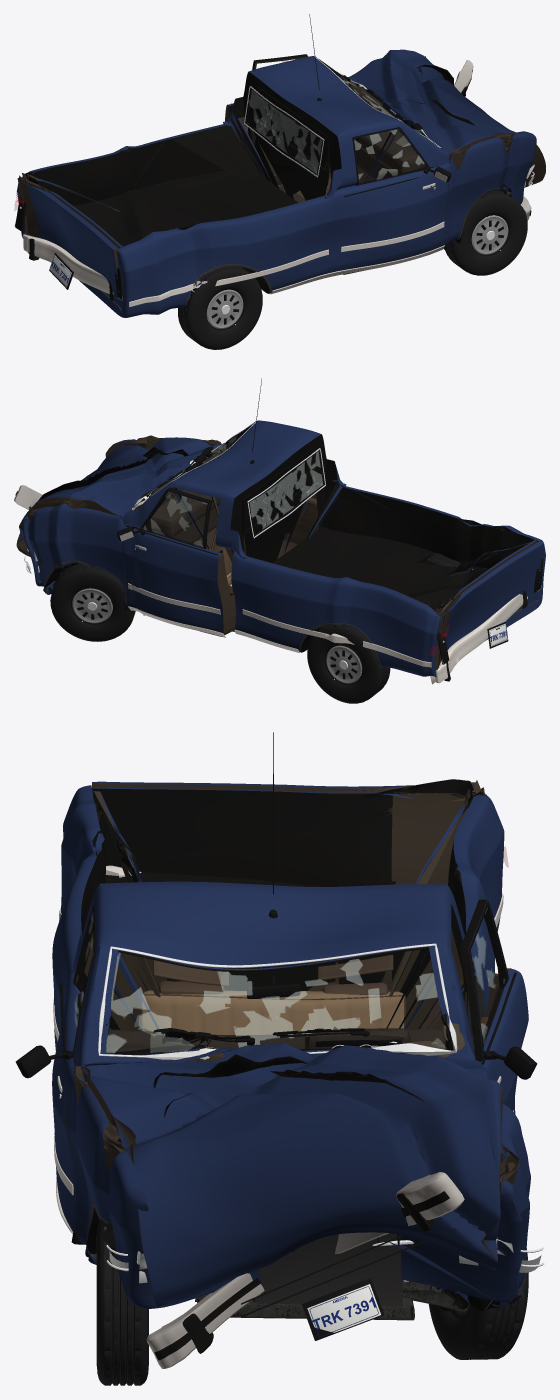
File: pickup87_front_d2.glb
3 views of the same model, one above another, from view 1: azimuth 30°, elevation 25°; view 2: azimuth 150°, elevation 25°; view 3: azimuth 270°, elevation 25° (orthographic). The views are drawn at different scales.
Parts seen in each view (by area): view 1: Body, Hood, Wheel_RR_mesh, Wheel_FR_mesh, Tailgate, Door_FR, Glass, Interior, Trim, Trim_FR, Bumper_R, Ends (+3 smaller); view 2: Body, Door_FL, Hood, Wheel_FL_mesh, Wheel_RL_mesh, Tailgate, Glass, Interior, Trim, Trim_FL, Bumper_R, Ends (+3 smaller); view 3: Body, Hood, Interior, Glass, Bumper_F, Engine, Door_FL, Wheel_FR_mesh, Ends, Wheel_FL_mesh, Door_FR, Underbody (+5 smaller).
Part boxes in pixels (x1=…): Body: x1=17, y1=56, x2=536, y2=317; Hood: x1=348, y1=49, x2=545, y2=187; Wheel_RR_mesh: x1=178, y1=266, x2=262, y2=349; Wheel_FR_mesh: x1=445, y1=190, x2=527, y2=275; Tailgate: x1=17, y1=178, x2=120, y2=307; Door_FR: x1=337, y1=127, x2=448, y2=270; Glass: x1=244, y1=57, x2=440, y2=177; Interior: x1=297, y1=85, x2=423, y2=197; Trim: x1=129, y1=14, x2=510, y2=307; Trim_FR: x1=337, y1=127, x2=451, y2=275; Bumper_R: x1=23, y1=234, x2=113, y2=300; Ends: x1=14, y1=164, x2=534, y2=300; Body: x1=22, y1=420, x2=545, y2=677; Door_FL: x1=121, y1=487, x2=235, y2=634; Hood: x1=16, y1=437, x2=220, y2=556; Wheel_FL_mesh: x1=50, y1=563, x2=135, y2=641; Wheel_RL_mesh: x1=307, y1=625, x2=390, y2=703; Tailgate: x1=438, y1=541, x2=543, y2=667; Glass: x1=132, y1=422, x2=325, y2=538; Interior: x1=144, y1=452, x2=231, y2=585; Trim: x1=43, y1=378, x2=472, y2=667; Trim_FL: x1=117, y1=489, x2=225, y2=637; Bumper_R: x1=430, y1=591, x2=527, y2=684; Ends: x1=24, y1=549, x2=543, y2=664; Body: x1=52, y1=779, x2=530, y2=1310; Hood: x1=80, y1=1043, x2=503, y2=1305; Interior: x1=106, y1=954, x2=446, y2=1051; Glass: x1=98, y1=943, x2=457, y2=1059; Bumper_F: x1=146, y1=1172, x2=464, y2=1368; Engine: x1=253, y1=1233, x2=402, y2=1306; Door_FL: x1=459, y1=899, x2=528, y2=1113; Wheel_FR_mesh: x1=96, y1=1220, x2=148, y2=1385; Ends: x1=106, y1=1234, x2=544, y2=1340; Wheel_FL_mesh: x1=428, y1=1248, x2=528, y2=1359; Door_FR: x1=52, y1=904, x2=95, y2=1232; Underbody: x1=195, y1=1280, x2=469, y2=1320.
Bounding box in the file's own units: 4.62 × 2.56 × 2.38.
33 materials, 5 textured.
